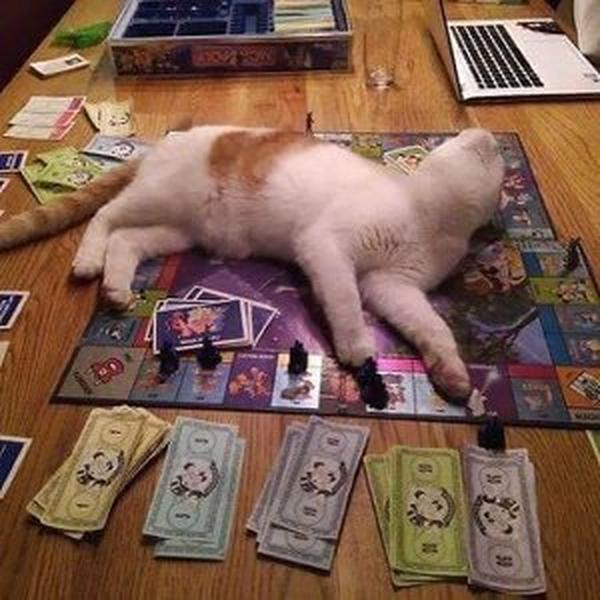michi: (6, 122, 510, 407)
